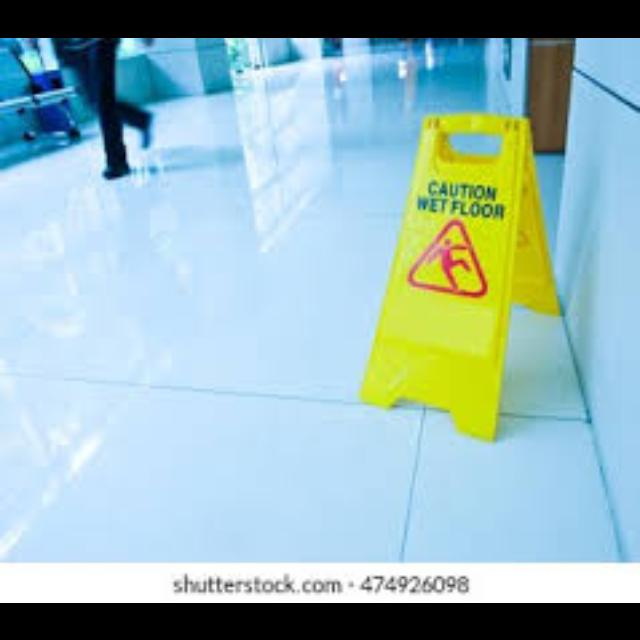slippery_floor: (364, 115, 557, 436)
